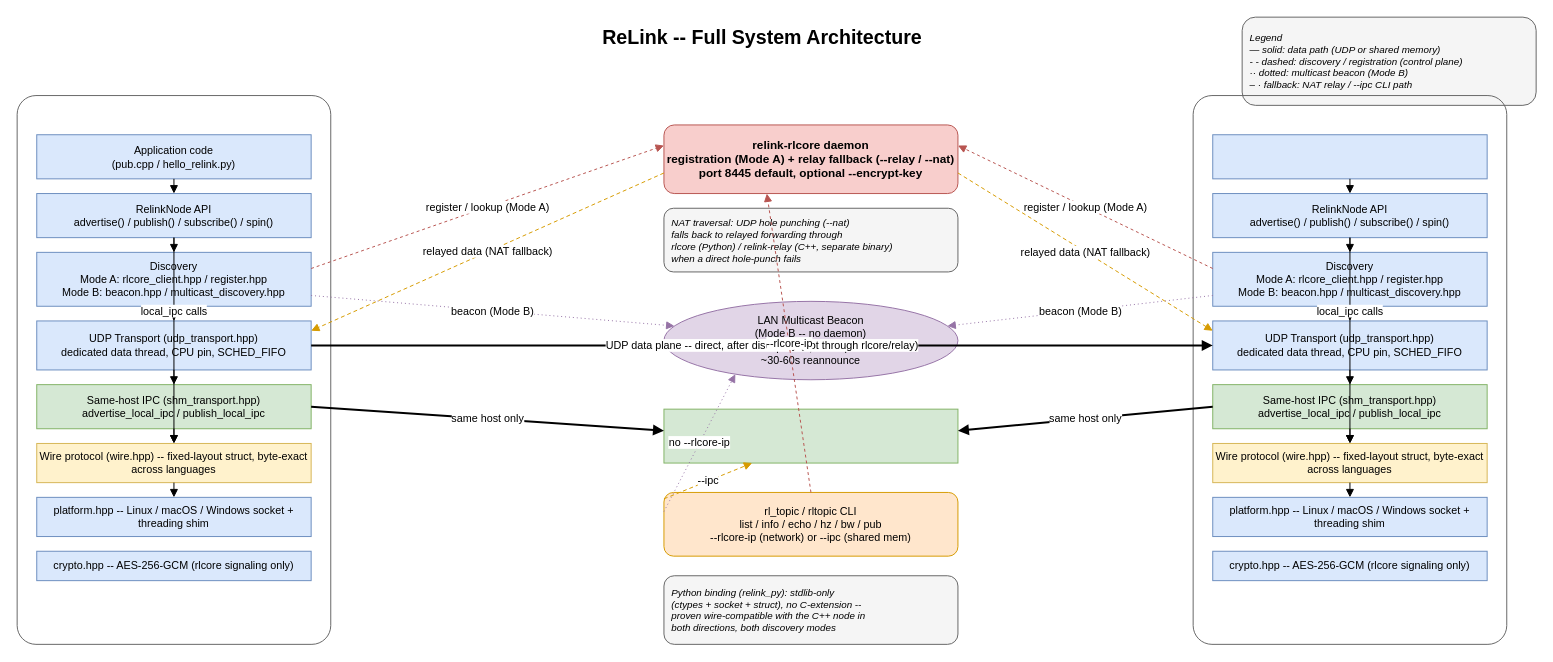
The diagram is 1553 pixels wide and 662 high, and some of its shapes have lost their labels. The box of each missing label's shape, as (x1, y1, x2, y2) in pixels:
Application code (sub.cpp / hello_relink.py): (1212, 134, 1487, 179)
Node A -- Publisher (C++ header-only lib OR Python stdlib binding): (16, 95, 331, 644)
Node B -- Subscriber (C++ header-only lib OR Python stdlib binding): (1192, 95, 1507, 644)
Shared-memory ring (same host only, no socket): (663, 408, 958, 463)
